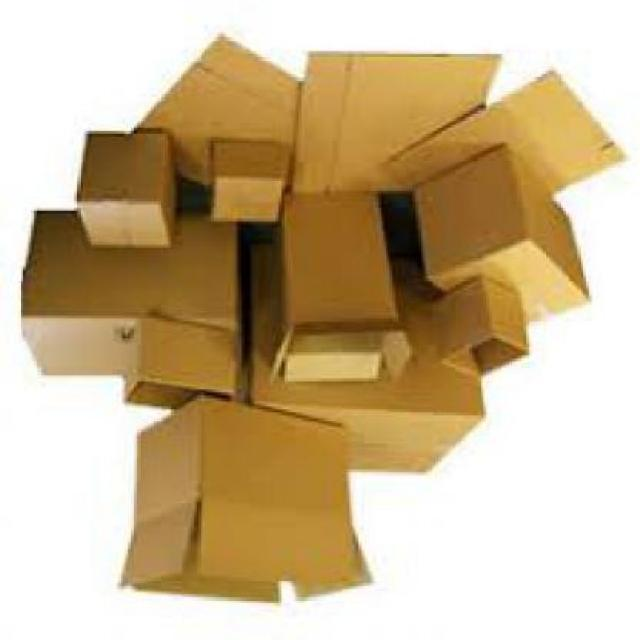box: (234, 245, 483, 476), (117, 399, 369, 606), (18, 208, 237, 382), (411, 146, 589, 334), (382, 72, 622, 208), (294, 52, 498, 203), (271, 191, 405, 388), (128, 40, 295, 191), (75, 131, 177, 251), (120, 319, 237, 413), (429, 277, 526, 381), (205, 146, 282, 223)
